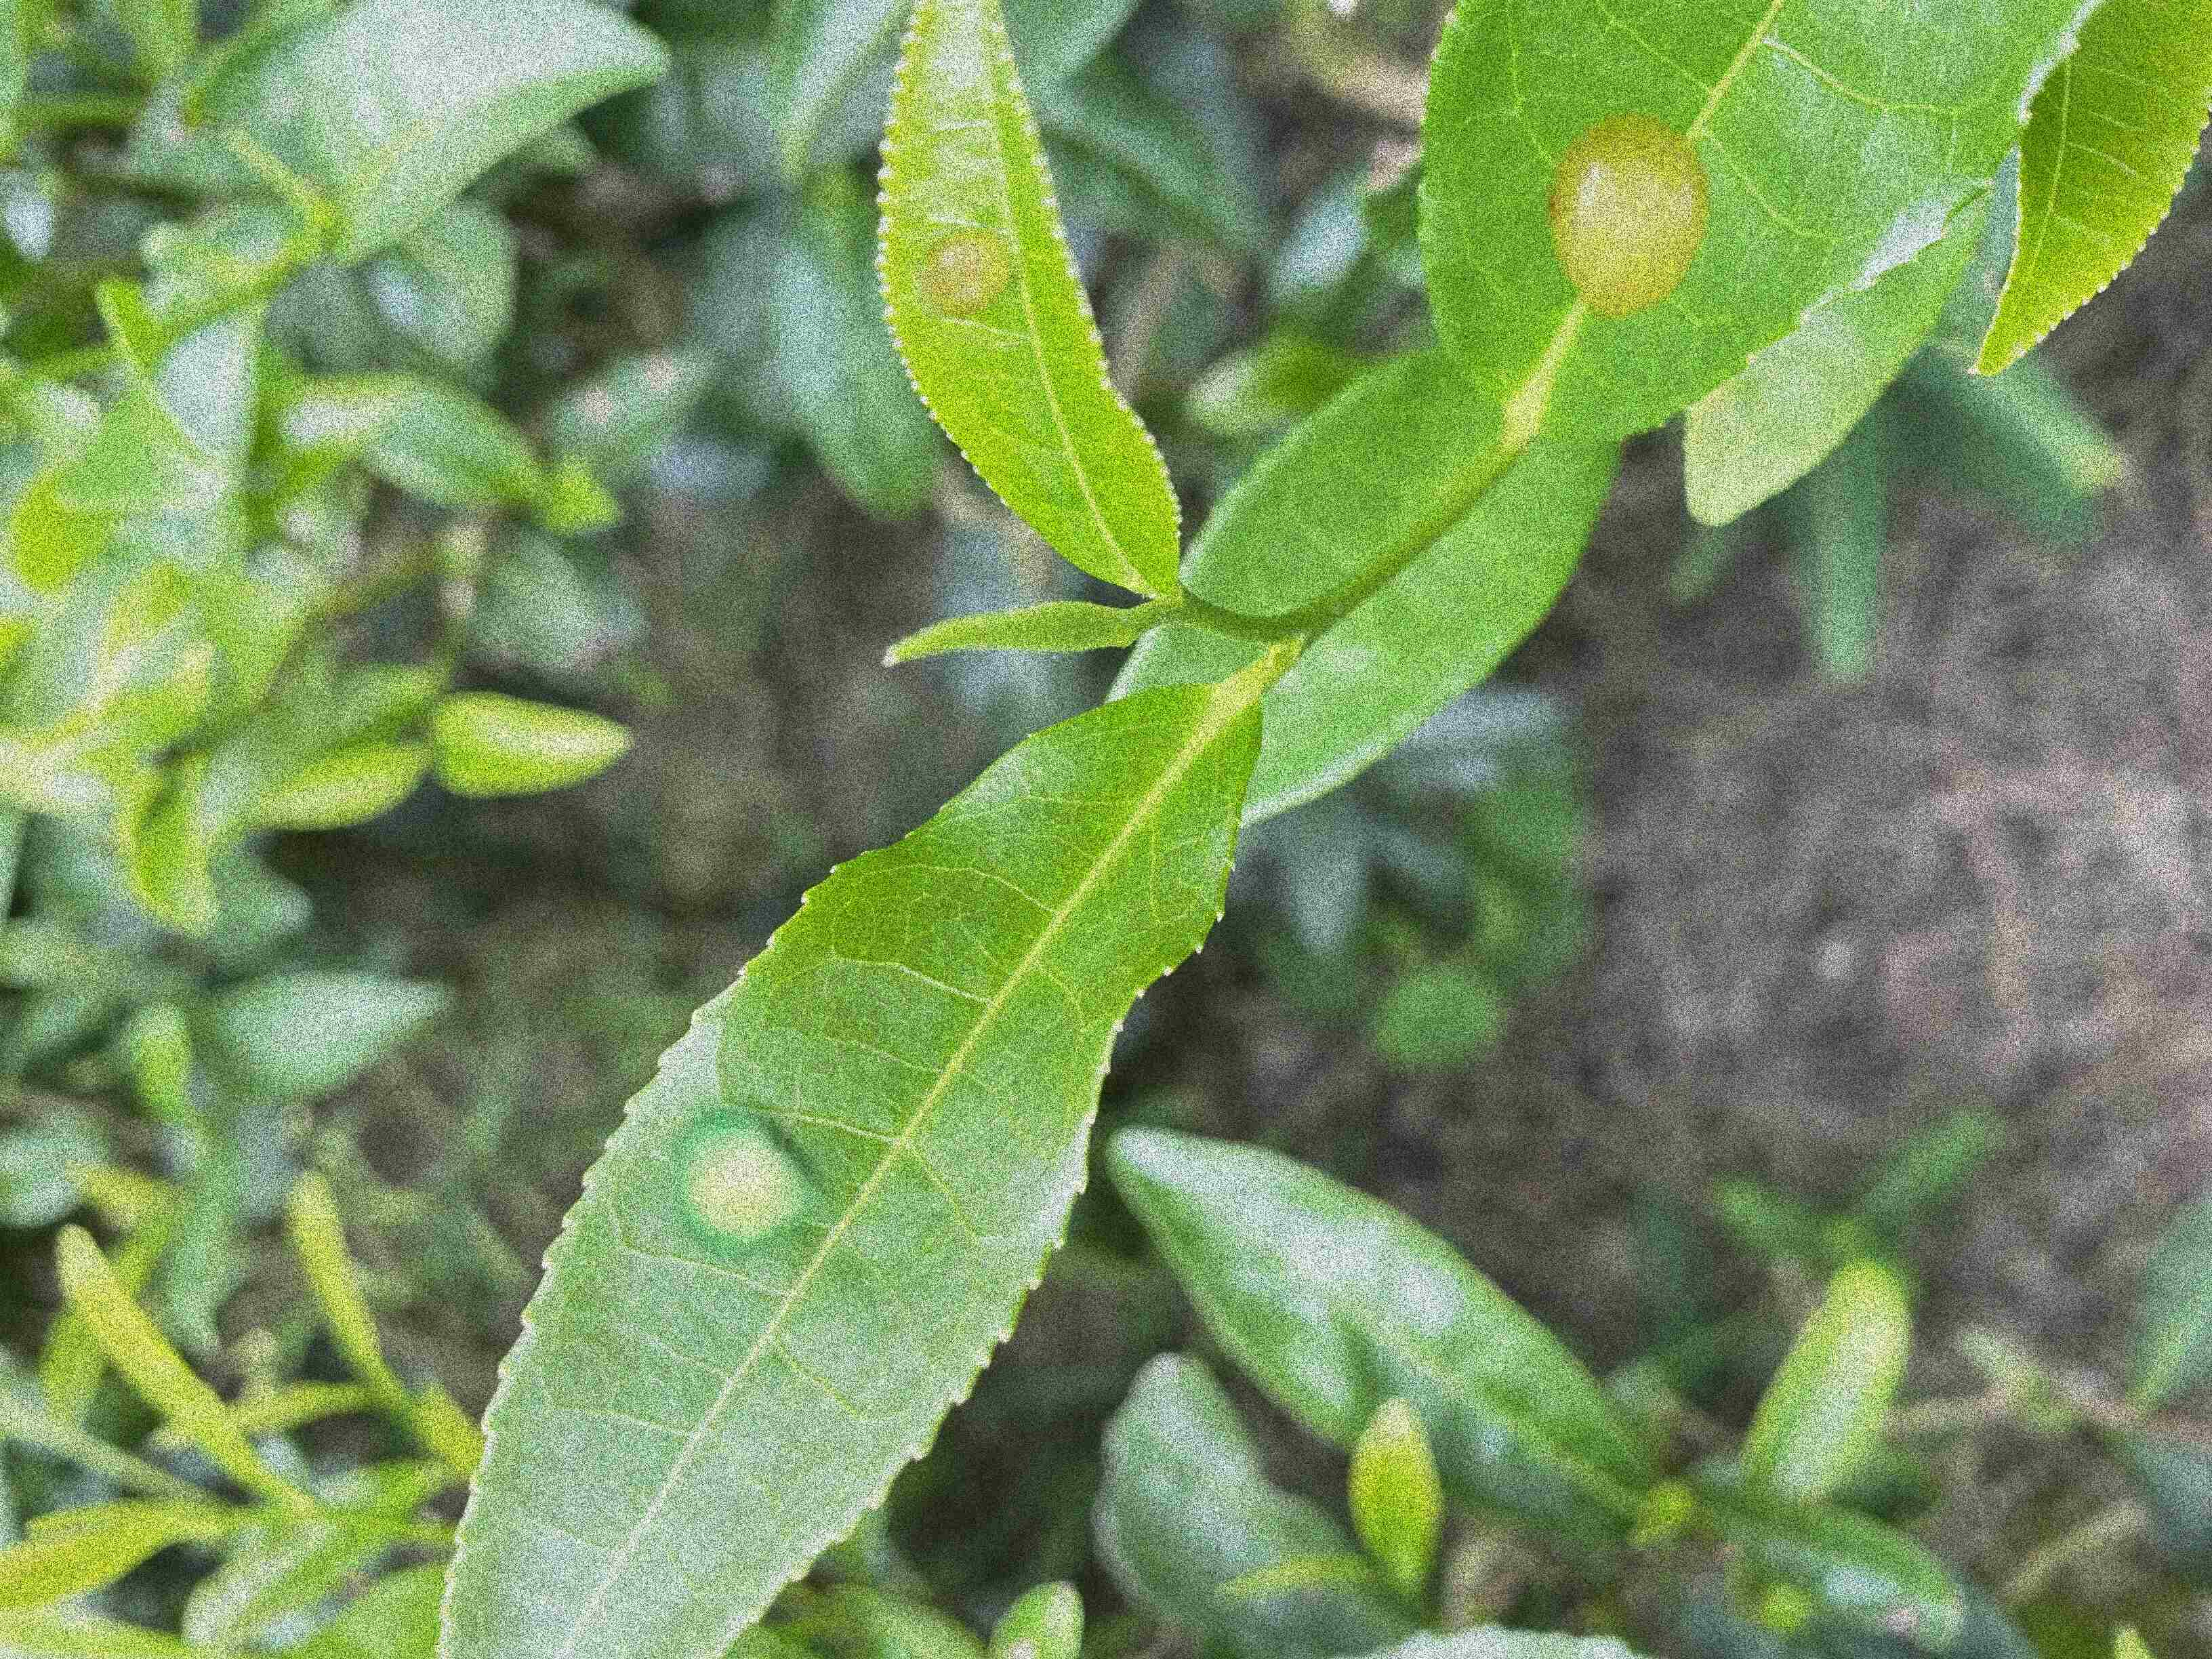chabing_low: (434, 680, 1264, 1657), (1413, 3, 2102, 450), (869, 3, 1186, 594)
healthy: (1968, 9, 2210, 382)
